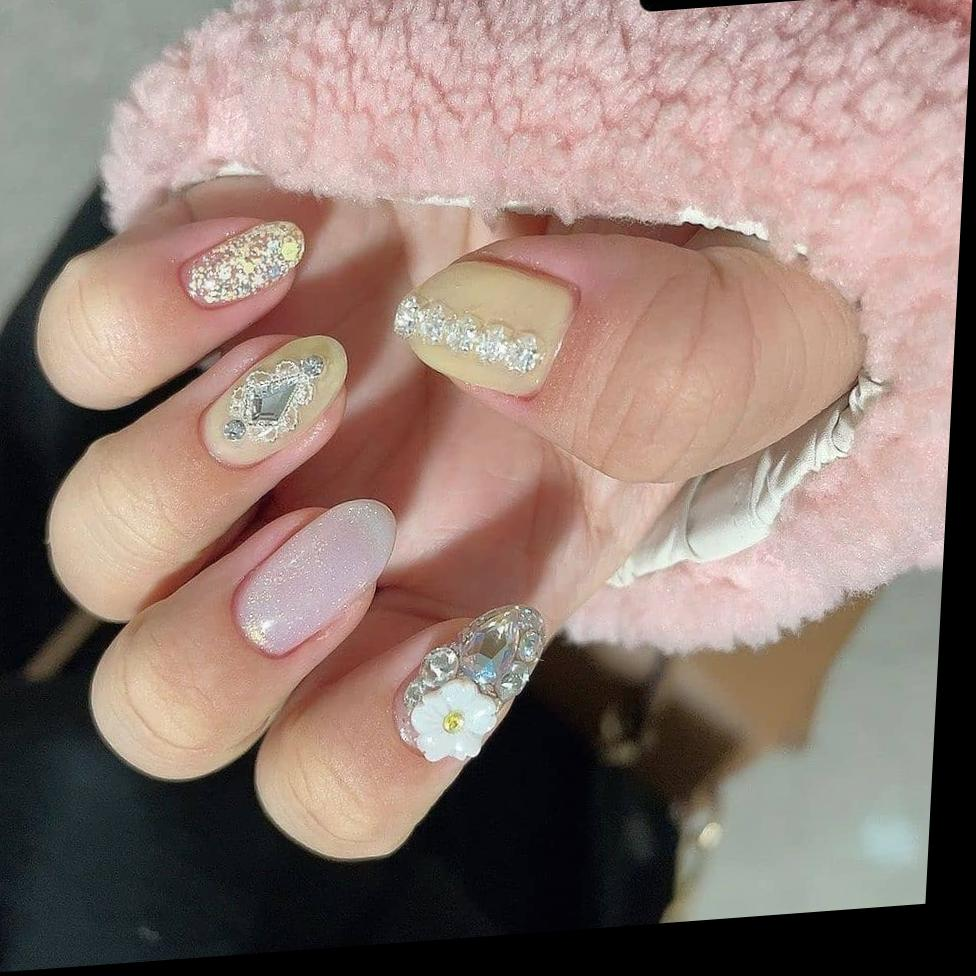nail: (389, 249, 583, 410), (228, 495, 401, 665), (197, 331, 351, 475), (177, 216, 309, 314)
